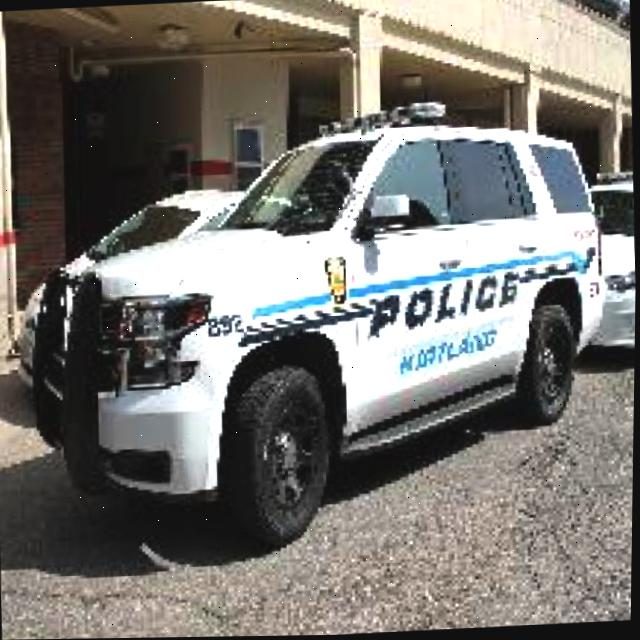emergency: (6, 93, 621, 561)
